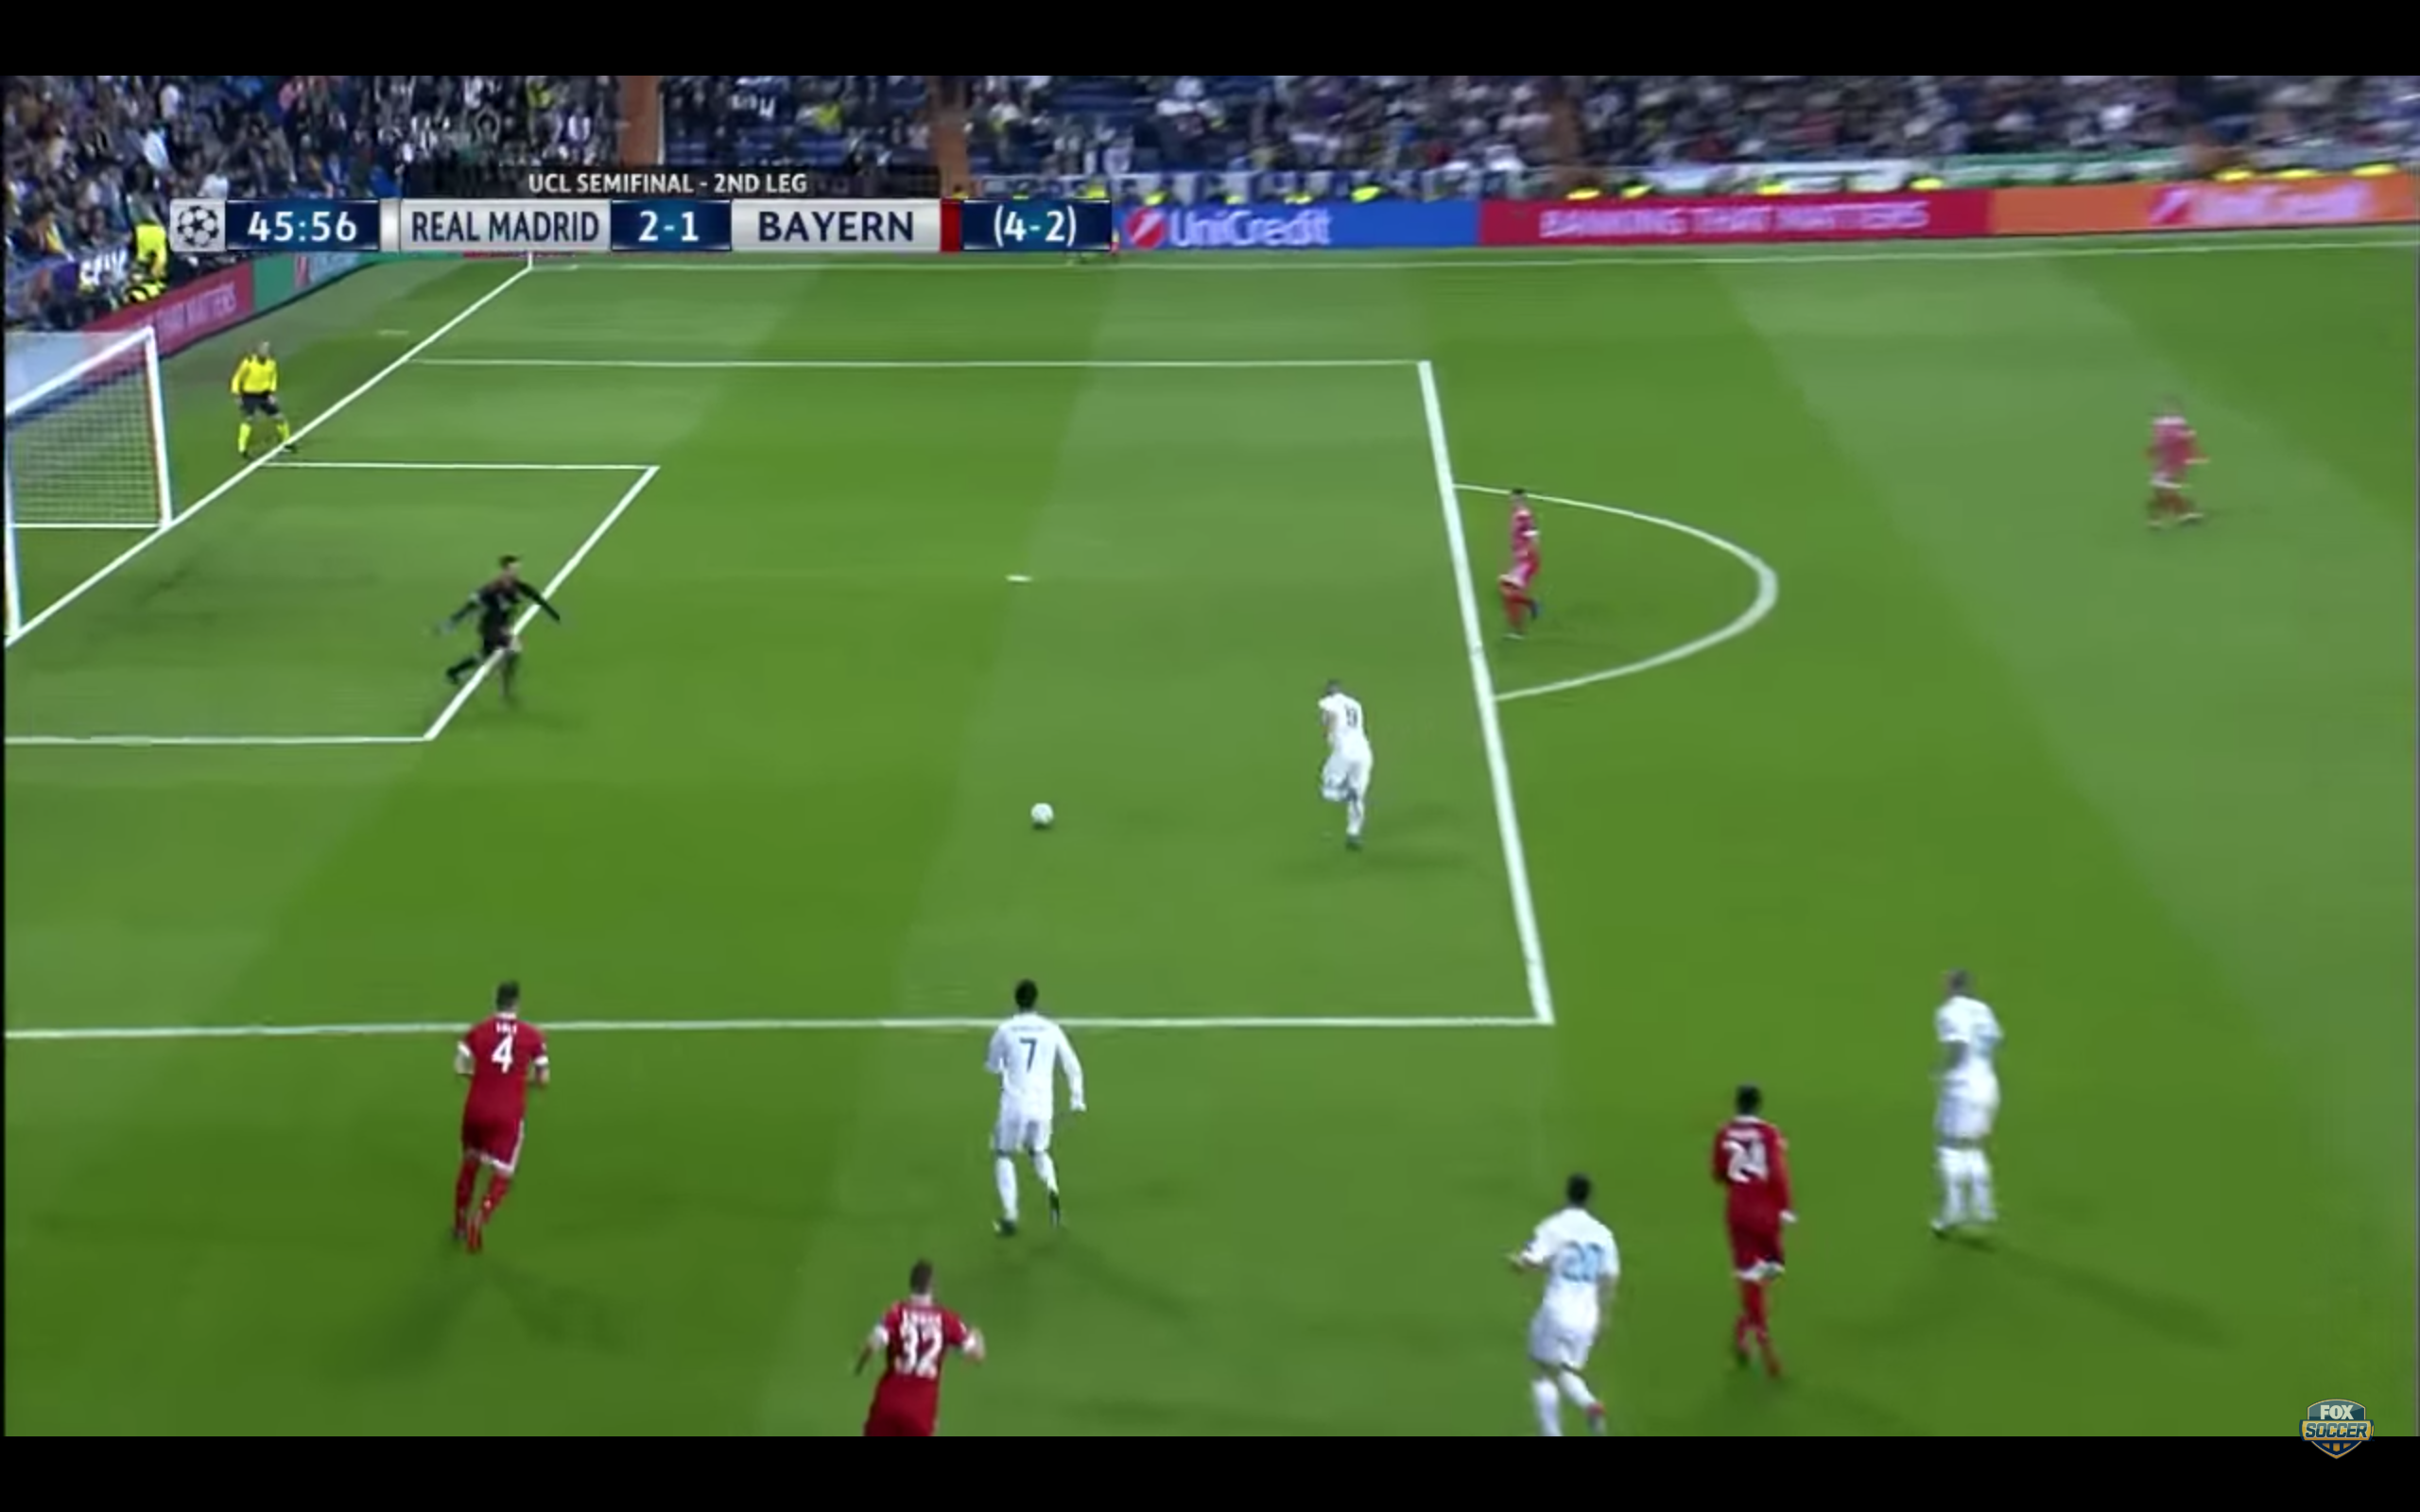referee: (229, 343, 305, 467)
soccer ball: (1020, 790, 1063, 838)
soccer player: (1495, 1167, 1630, 1438), (1906, 964, 2029, 1250), (1698, 1079, 1809, 1383), (442, 975, 556, 1268), (977, 977, 1092, 1242), (422, 550, 574, 720), (852, 1252, 989, 1435), (1295, 677, 1388, 858), (2137, 389, 2217, 537), (1497, 483, 1547, 645)
